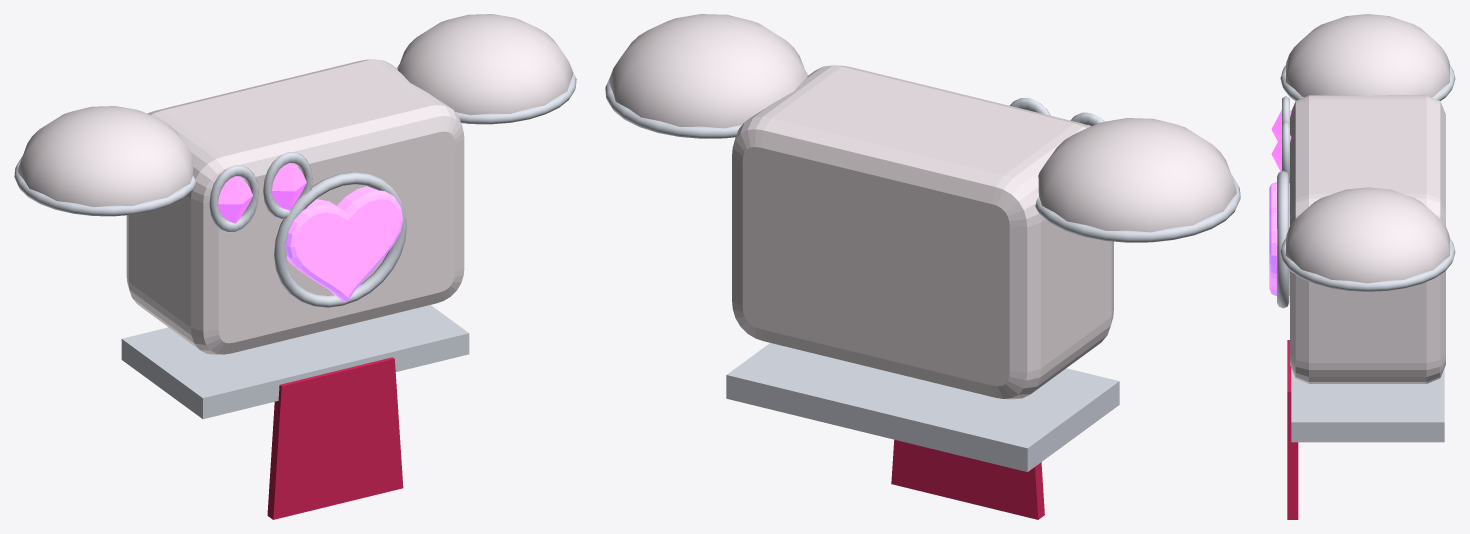
Rendered from eqf_eqmo2.glb.
3 views of the same model, side by side, from view 1: azimuth 30°, elevation 25°; view 2: azimuth 150°, elevation 25°; view 3: azimuth 270°, elevation 25° (orthographic). The views are drawn at different scales.
Size of the model in its own units: 4.28 by 3.05 by 1.36.
